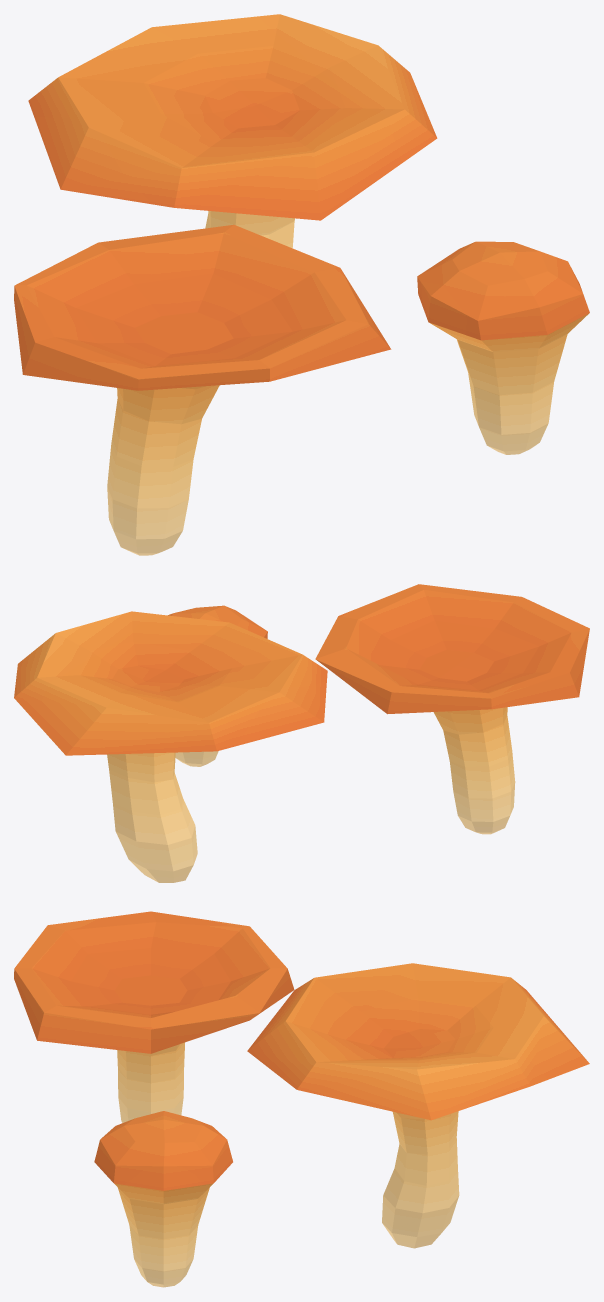
File: cluster_chanterelle.glb
The picture shows the model from 3 angles, top to bottom: view 1: azimuth 30°, elevation 25°; view 2: azimuth 150°, elevation 25°; view 3: azimuth 270°, elevation 25°; orthographic projection. The views are drawn at different scales.
Visible parts, largest first — view 1: Chanterelle_bunch; view 2: Chanterelle_bunch; view 3: Chanterelle_bunch.
Boxes of the visible parts, x1,y1,x2,y2 form: Chanterelle_bunch: (14,14,589,555); Chanterelle_bunch: (14,584,589,882); Chanterelle_bunch: (14,911,589,1287).
Size of the model in its own units: 14.33 by 7.14 by 15.92.
1 material, 1 textured.
